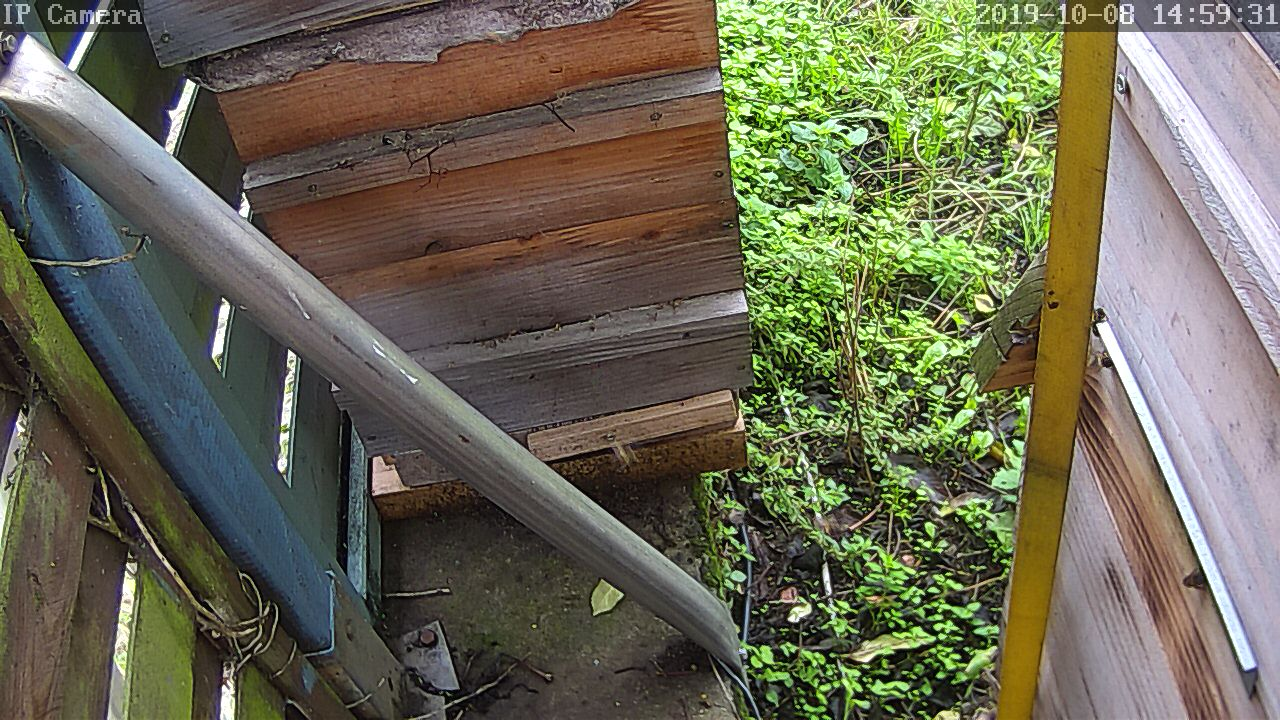bee: (1171, 561, 1211, 598), (1086, 302, 1113, 342), (1092, 351, 1117, 375)
